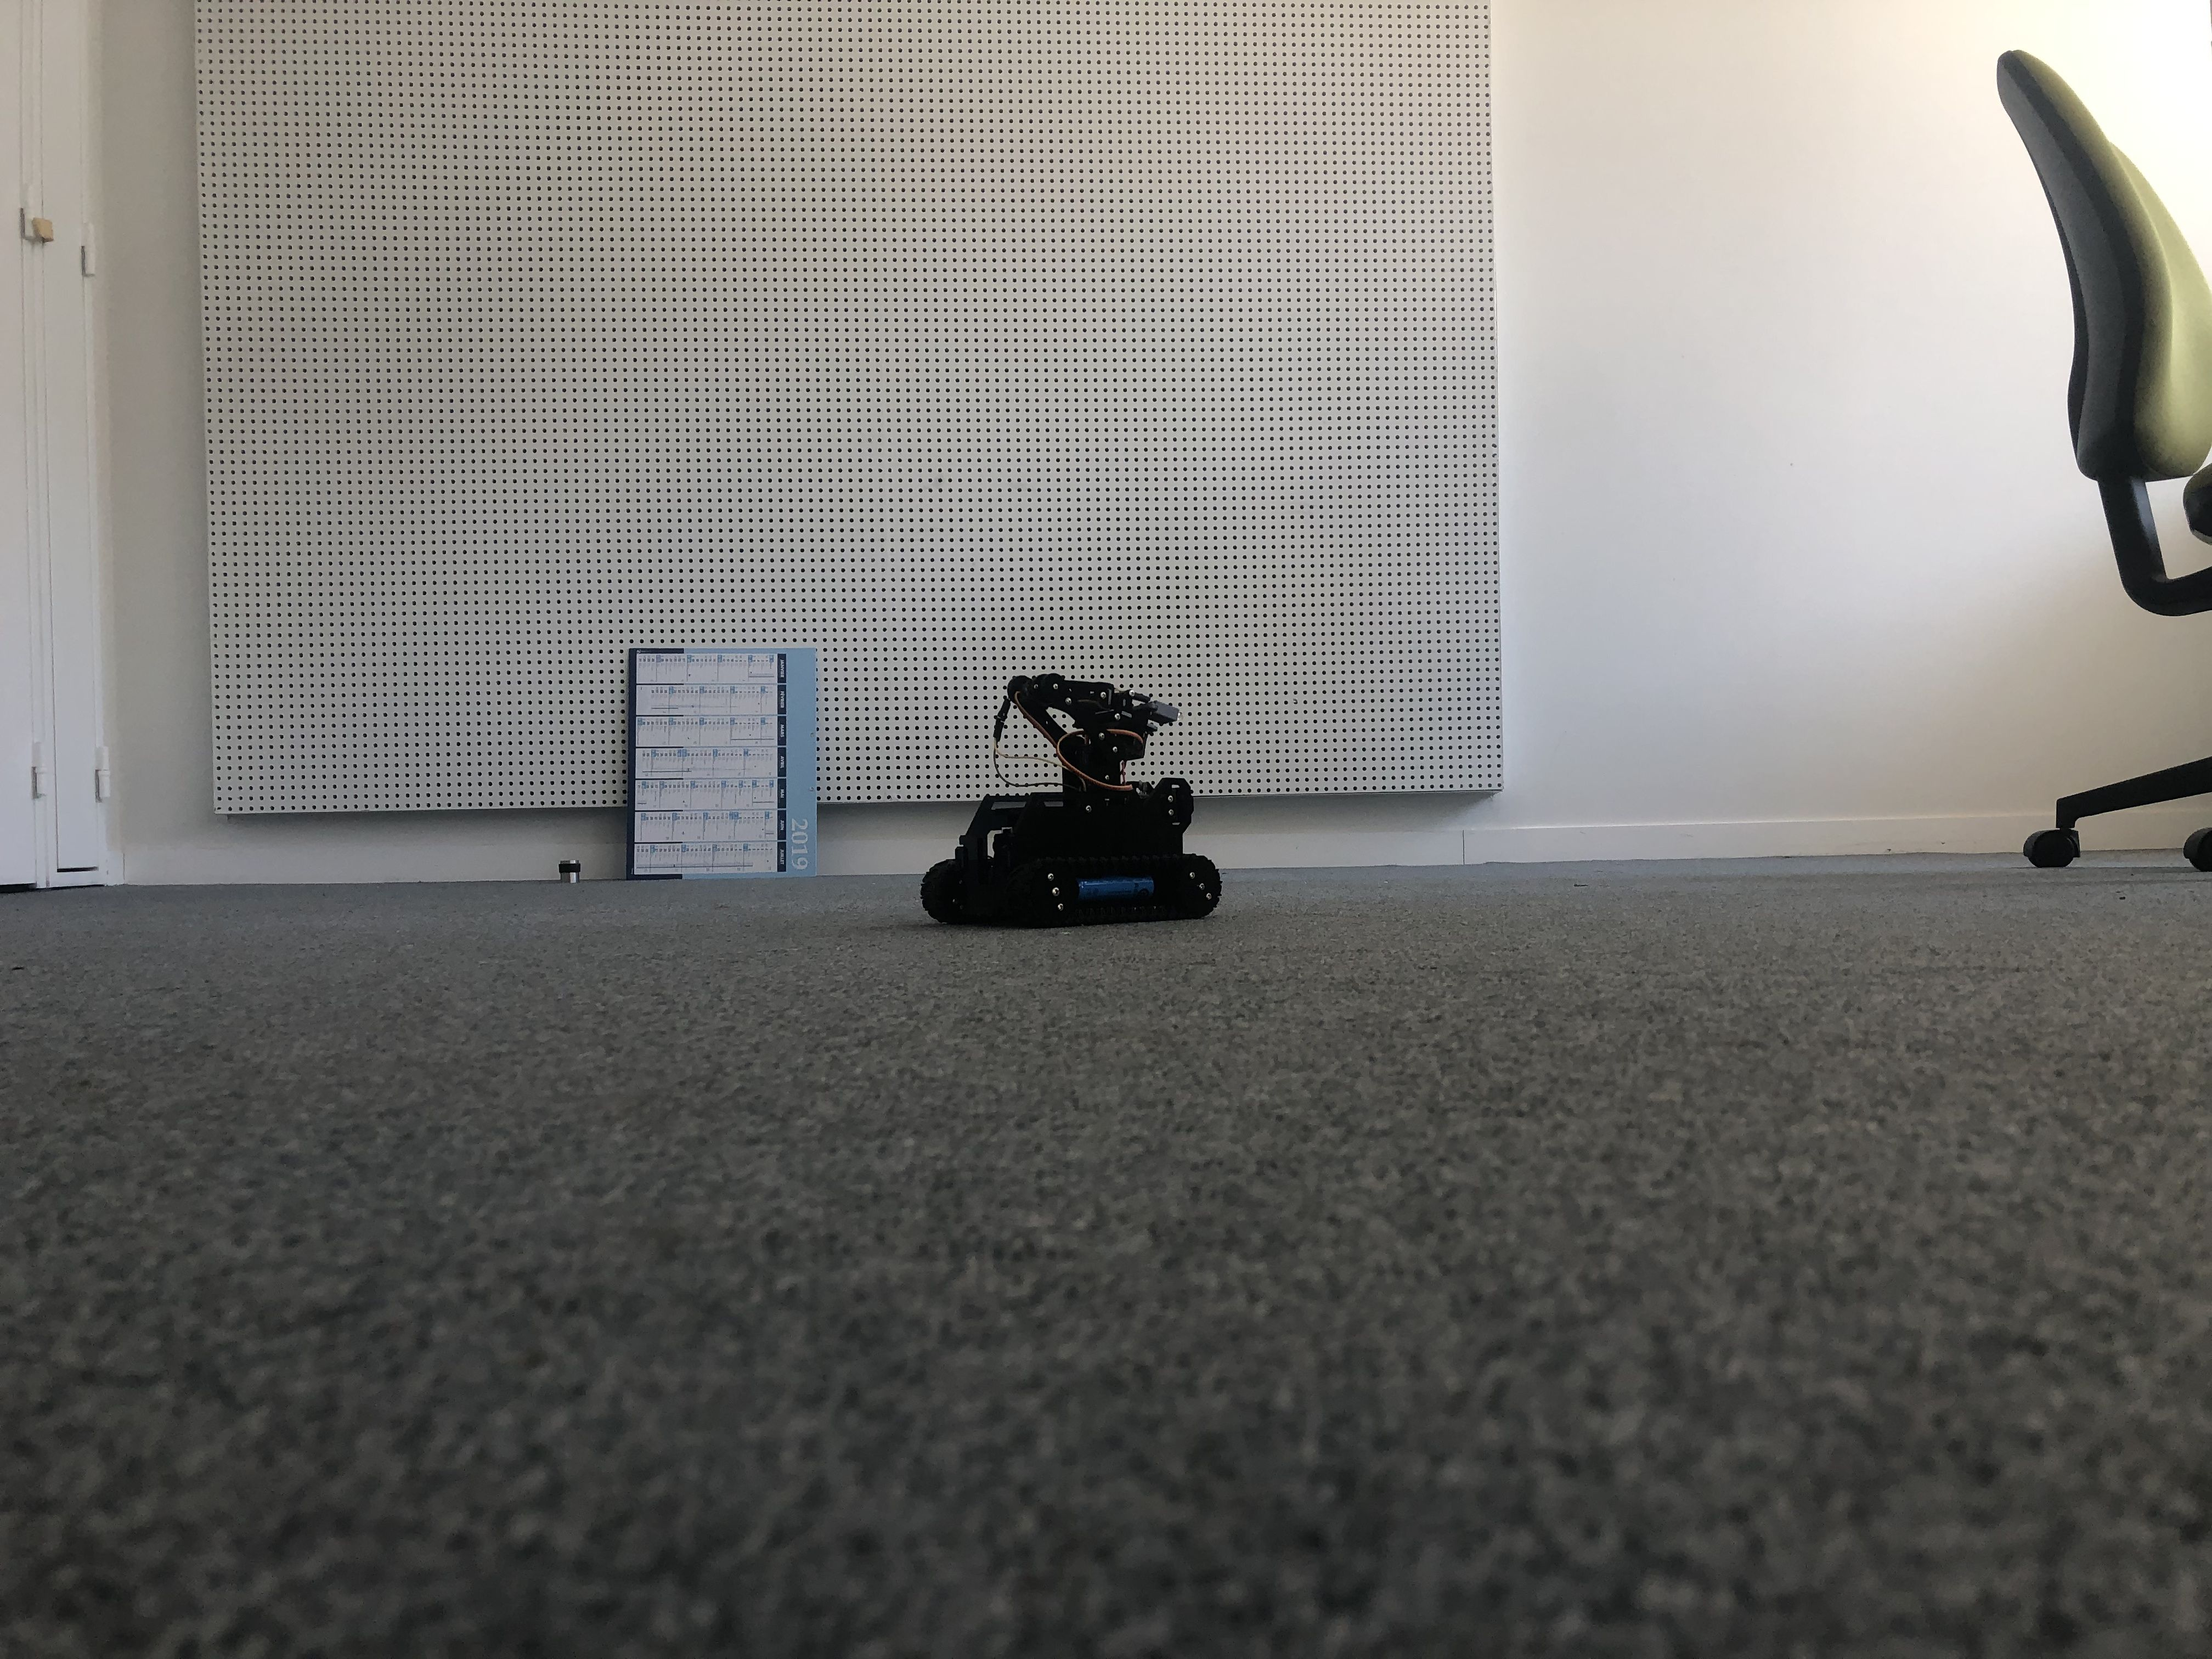rasptank: (907, 673, 1226, 934)
